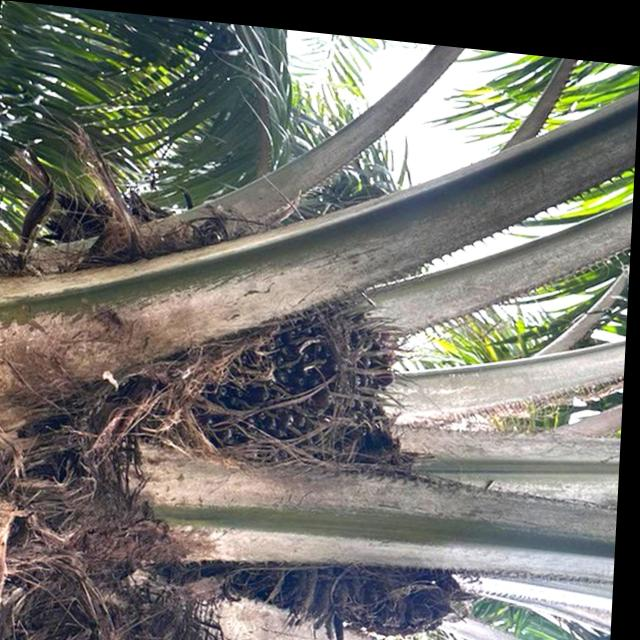ripe: (182, 256, 435, 480)
